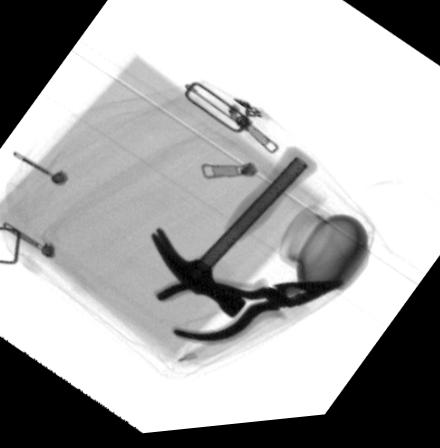Hammer: (148, 152, 317, 324)
Pliers: (153, 280, 347, 348)
